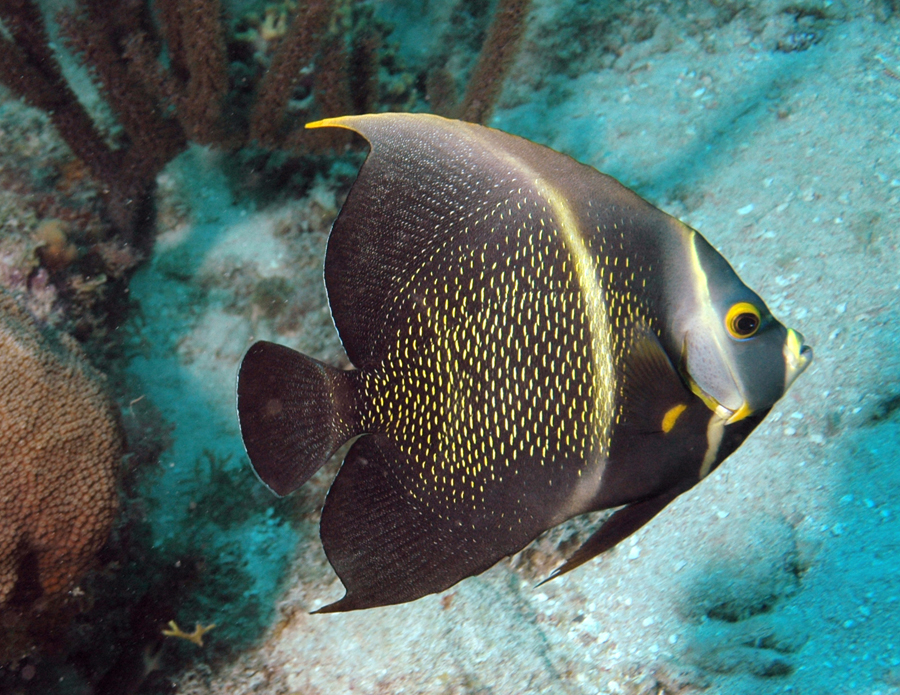Pomacanthus_paru: (206, 99, 821, 613)
